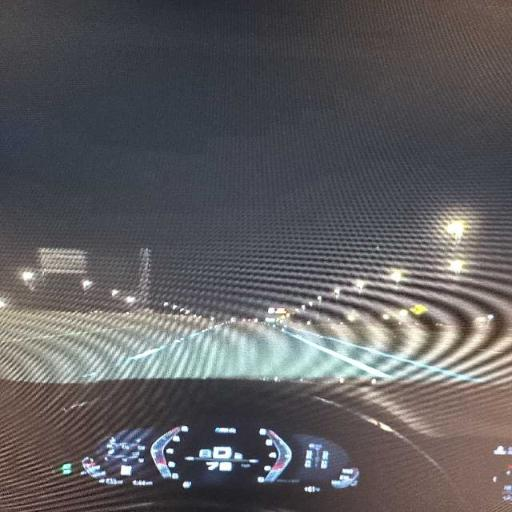lane: (0, 311, 368, 381), (286, 328, 482, 381), (286, 330, 391, 378)
